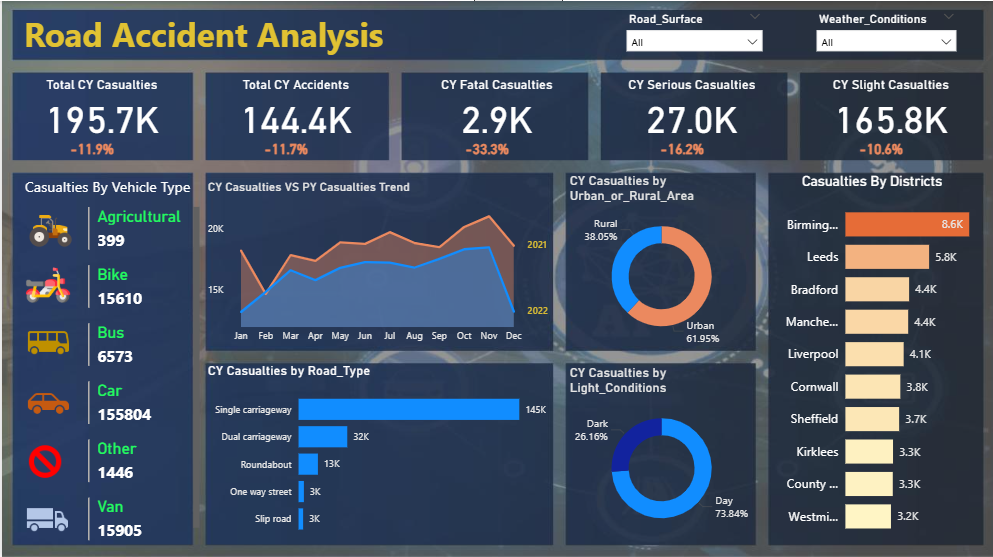

The page's visual inventory and layout, read from the dashboard file:
{"tool":"powerbi","page":{"name":"Page 1","canvas":[1280,720],"ordinal":0},"visuals":[{"type":"group","id":"g1","title":"Group 1","box":[23.3,98.3,211.7,113.3],"z":0},{"type":"card","title":"Total CY Casualties","fields":{"Values":["Data.CY Casualties"]},"box":[23.3,98.3,211.7,80],"z":0,"group":"g1"},{"type":"card","title":"Total CY Accidents","fields":{"Values":["Data.Total CY Accidents Count"]},"box":[273.3,98.3,211.7,80],"z":0,"group":"g2"},{"type":"card","title":"CY Fatal Casualties","fields":{"Values":["Data.CY Casualties"]},"box":[533.3,98.3,211.7,80],"z":0,"group":"g3"},{"type":"card","title":"CY Serious Casualties","fields":{"Values":["Data.CY Casualties"]},"box":[785,98.3,211.7,80],"z":0,"group":"g4"},{"type":"card","title":"CY Slight Casualties","fields":{"Values":["Data.CY Casualties"]},"box":[1041.7,98.3,211.7,80],"z":0,"group":"g5"},{"type":"group","id":"g2","title":"Group 1","box":[273.3,98.3,211.7,113.3],"z":1000},{"type":"card","fields":{"Values":["Data.YoY Casualties"]},"box":[73.3,171.6,85,40],"z":1000,"group":"g1"},{"type":"card","fields":{"Values":["Data.YoY Accidents"]},"box":[323.3,171.6,85,40],"z":1000,"group":"g2"},{"type":"card","fields":{"Values":["Data.YoY Casualties"]},"box":[583.3,171.6,85,40],"z":1000,"group":"g3"},{"type":"card","fields":{"Values":["Data.YoY Casualties"]},"box":[835,171.6,85,40],"z":1000,"group":"g4"},{"type":"card","fields":{"Values":["Data.YoY Casualties"]},"box":[1091.7,171.6,85,40],"z":1000,"group":"g5"},{"type":"group","id":"g3","title":"Group 1","box":[533.3,98.3,211.7,113.3],"z":2000},{"type":"group","id":"g4","title":"Group 1","box":[785,98.3,211.7,113.3],"z":3000},{"type":"group","id":"g5","title":"Group 1","box":[1041.7,98.3,211.7,113.3],"z":4000},{"type":"textbox","box":[23.3,7.8,474.4,68.9],"z":5000},{"type":"multiRowCard","fields":{"Values":["Data.Vehicle_Type (groups)","Data.CY Casualties"]},"box":[106,260,154,442],"z":6000},{"type":"textbox","box":[24.4,222.2,227.8,37.8],"z":7000},{"type":"areaChart","title":"CY Casualties VS PY Casualties Trend","fields":{"Category":["Calendar.Month"],"Y":["Sum(Data.Number_of_Casualties)"],"Series":["Calendar.Date.Variation.Date Hierarchy.Year"]},"box":[261.1,230,452.2,220],"z":8000},{"type":"barChart","fields":{"Category":["Data.Road_Type"],"Y":["Data.CY Casualties"]},"box":[260,466.7,453.3,235],"z":9000},{"type":"donutChart","fields":{"Category":["Data.Urban_or_Rural_Area"],"Y":["Data.CY Casualties"]},"box":[728.3,221.7,246.7,228.3],"z":10000},{"type":"donutChart","title":"CY Casualties by Light_Conditions ","fields":{"Y":["Data.CY Casualties"],"Category":["Data.Light_Conditions (groups)"]},"box":[728.3,470,246.7,228.3],"z":11000},{"type":"image","box":[13.3,338.3,93.3,56.7],"z":12000},{"type":"image","box":[13.3,411.7,93.3,58.3],"z":13000},{"type":"image","box":[13.3,490,93.3,58.3],"z":14000},{"type":"image","box":[11.7,640,93.3,58.3],"z":15000},{"type":"image","box":[20,266.7,83.3,58.3],"z":16000},{"type":"image","box":[18.3,568.3,75,53.3],"z":17000},{"type":"slicer","fields":{"Values":["Data.Weather_Conditions (groups)"]},"box":[1041.7,8.3,200,68.3],"z":18000},{"type":"slicer","fields":{"Values":["Data.Road_Surface_Conditions"]},"box":[796.7,8.3,195,68.3],"z":19000},{"type":"barChart","title":"Casualties By Districts","fields":{"Y":["Sum(Data.Number_of_Casualties)"],"Category":["Data.Local_Authority_(District)"]},"box":[991.7,222.2,260.8,481.1],"z":20000}]}

Visuals, with their boxes in screenshot pixels (x1, y1, x2, y2), scaled from the page's 1280x720 canvas onto the 993x557 screenshot:
"Group 1" group: Rect(18, 76, 182, 164)
"Total CY Casualties" card: Rect(18, 76, 182, 138)
"Total CY Accidents" card: Rect(212, 76, 376, 138)
"CY Fatal Casualties" card: Rect(414, 76, 578, 138)
"CY Serious Casualties" card: Rect(609, 76, 773, 138)
"CY Slight Casualties" card: Rect(808, 76, 972, 138)
"Group 1" group: Rect(212, 76, 376, 164)
card - Data.YoY Casualties: Rect(57, 133, 123, 164)
card - Data.YoY Accidents: Rect(251, 133, 317, 164)
card - Data.YoY Casualties: Rect(453, 133, 518, 164)
card - Data.YoY Casualties: Rect(648, 133, 714, 164)
card - Data.YoY Casualties: Rect(847, 133, 913, 164)
"Group 1" group: Rect(414, 76, 578, 164)
"Group 1" group: Rect(609, 76, 773, 164)
"Group 1" group: Rect(808, 76, 972, 164)
textbox: Rect(18, 6, 386, 59)
multiRowCard - Data.Vehicle_Type (groups) x Data.CY Casualties: Rect(82, 201, 202, 543)
textbox: Rect(19, 172, 196, 201)
"CY Casualties VS PY Casualties Trend" areaChart: Rect(203, 178, 553, 348)
barChart - Data.Road_Type x Data.CY Casualties: Rect(202, 361, 553, 543)
donutChart - Data.Urban_or_Rural_Area x Data.CY Casualties: Rect(565, 172, 756, 348)
"CY Casualties by Light_Conditions " donutChart: Rect(565, 364, 756, 540)
image: Rect(10, 262, 83, 306)
image: Rect(10, 318, 83, 364)
image: Rect(10, 379, 83, 424)
image: Rect(9, 495, 81, 540)
image: Rect(16, 206, 80, 251)
image: Rect(14, 440, 72, 481)
slicer - Data.Weather_Conditions (groups): Rect(808, 6, 963, 59)
slicer - Data.Road_Surface_Conditions: Rect(618, 6, 769, 59)
"Casualties By Districts" barChart: Rect(769, 172, 972, 544)
